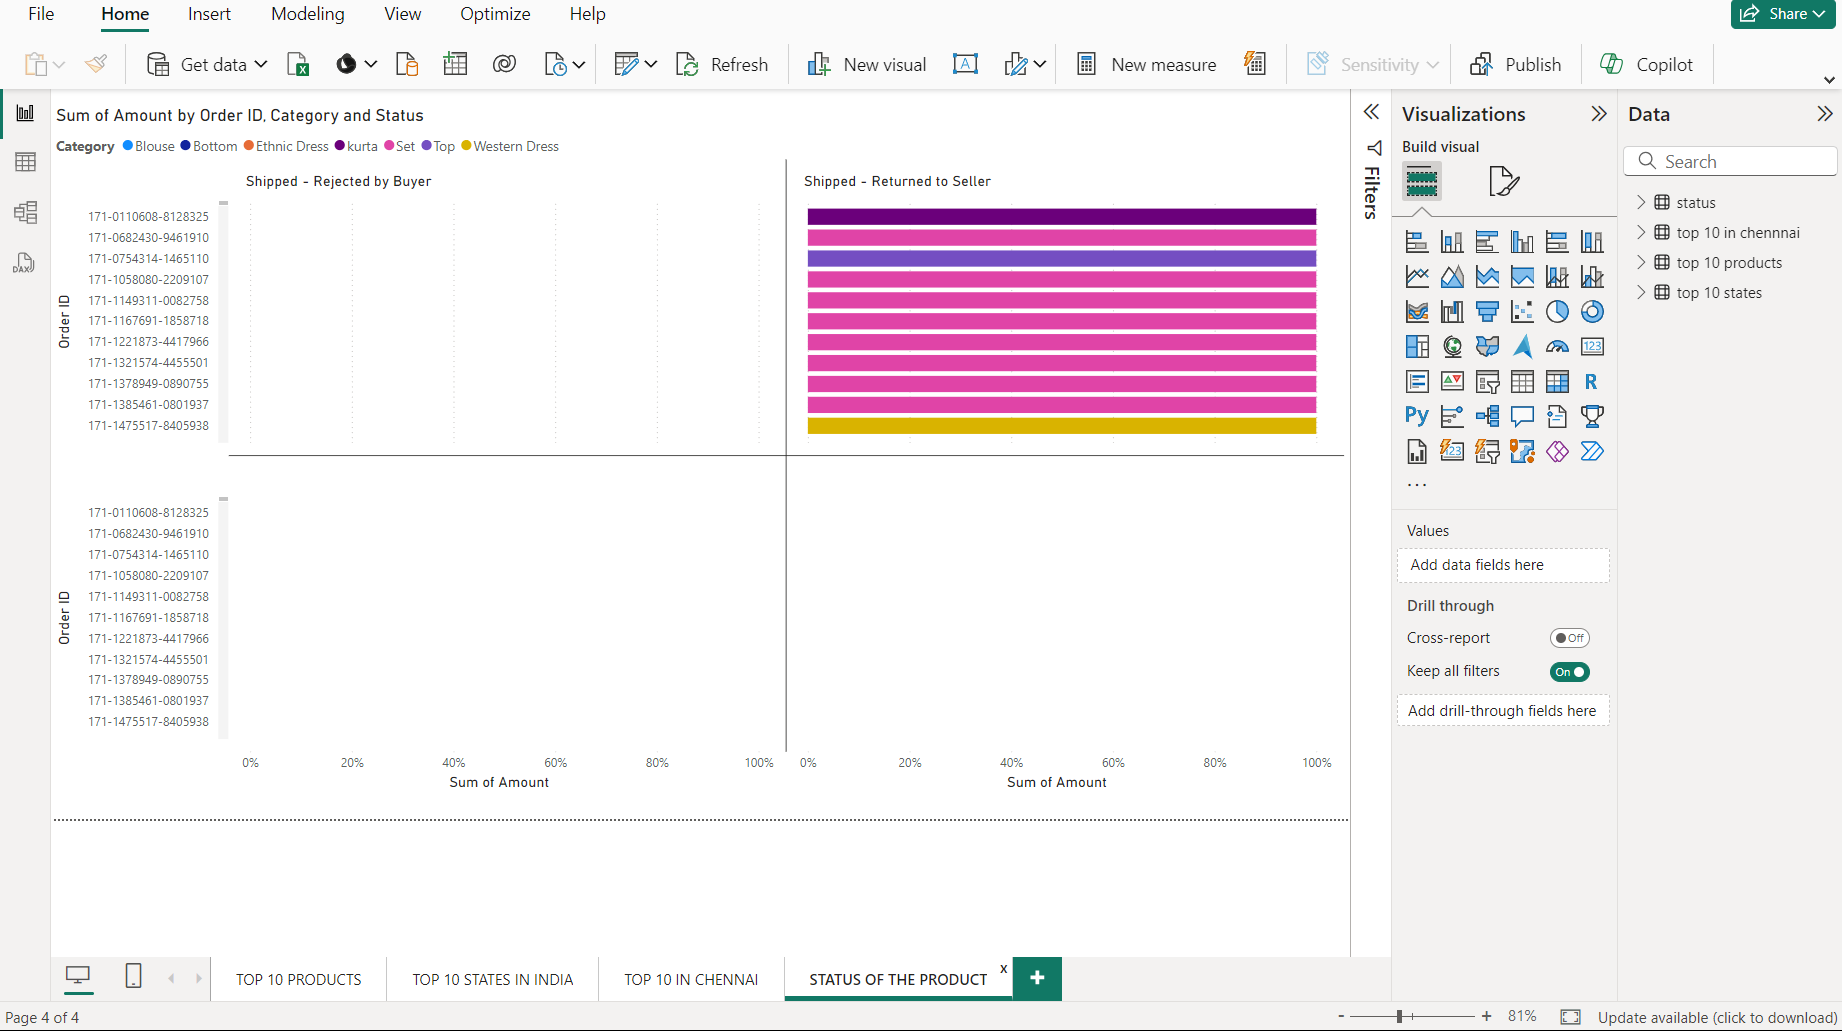

The dashboard page shown, as its layout file describes it:
{"tool":"powerbi","page":{"name":"STATUS OF THE PRODUCT","canvas":[1280,720],"ordinal":3},"visuals":[{"type":"hundredPercentStackedBarChart","fields":{"Category":["status.Order ID","status.ship-city"],"Series":["status.Category"],"Rows":["status.Status"],"Y":["Sum(status.Amount)"]},"box":[0,16,1279.8,679.9],"z":0}]}

Visuals, with their boxes on the page's 1280x720 design canvas (x1, y1, x2, y2). These are canvas units, not pixel positions in the 1842x1031 screenshot, which may show the page scaled, cropped or inside an application window:
hundredPercentStackedBarChart - status.Order ID x status.ship-city: Rect(0, 16, 1280, 696)
